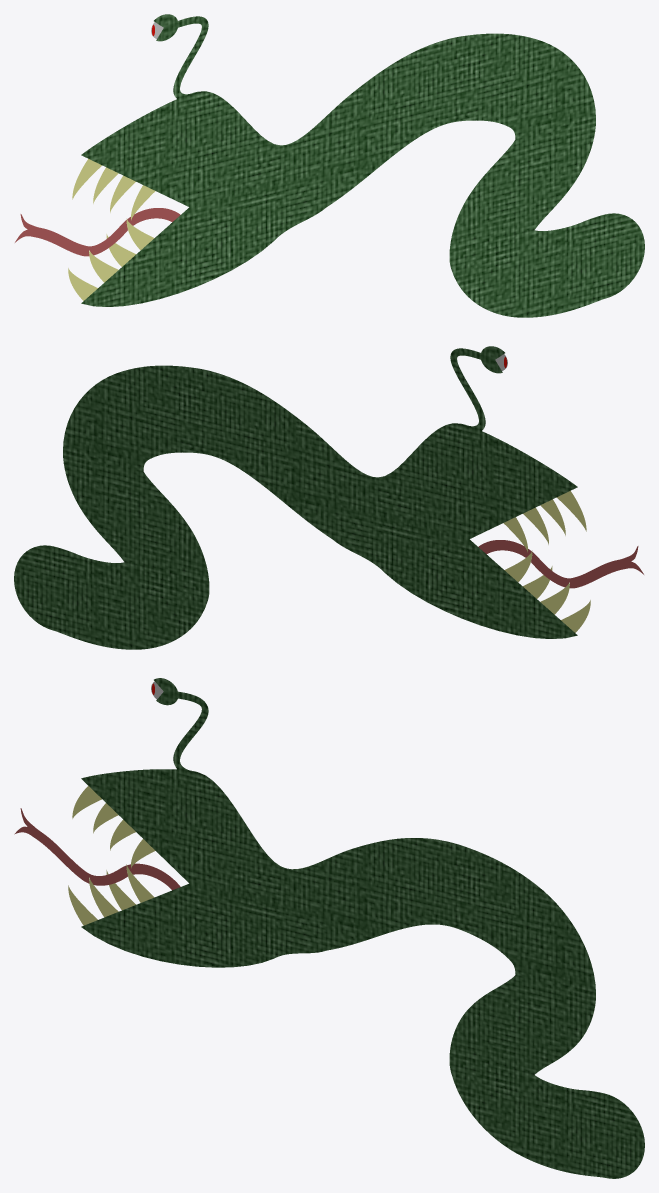
File: boss2.obj
3 views of the same model, one above another, from view 1: azimuth 30°, elevation 25°; view 2: azimuth 150°, elevation 25°; view 3: azimuth 330°, elevation 25° (orthographic).
Parts seen in each view (by area): view 1: Curve.000_CUpath907.001; view 2: Curve.000_CUpath907.001; view 3: Curve.000_CUpath907.001.
Boxes of the visible parts, <box> form: Curve.000_CUpath907.001: <box>15,14,644,317</box>; Curve.000_CUpath907.001: <box>14,346,643,649</box>; Curve.000_CUpath907.001: <box>14,678,644,1178</box>.
Size of the model in its own units: 1.01 by 0.6031 by 5e-06.
2 materials, 2 textured.
